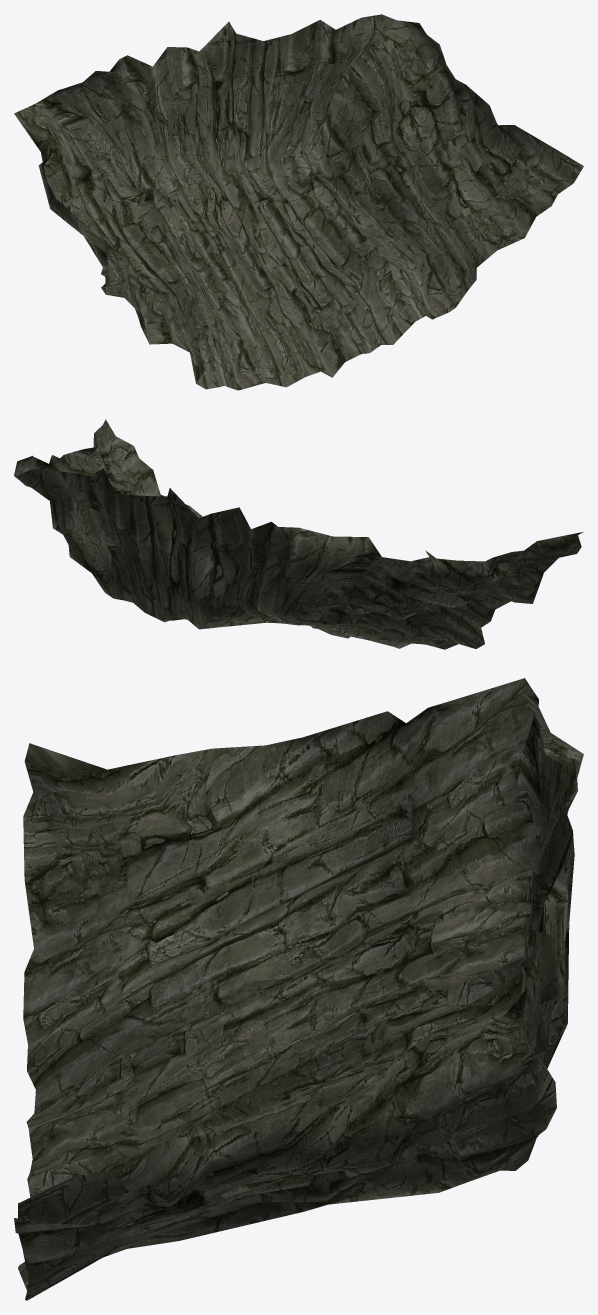
The model's file is TI_Cliff_02_i.fbx.
3 views of the same model, one above another, from view 1: azimuth 30°, elevation 25°; view 2: azimuth 150°, elevation 25°; view 3: azimuth 270°, elevation 25° (orthographic). The views are drawn at different scales.
Parts seen in each view (by area): view 1: TI_Cliff_02_i; view 2: TI_Cliff_02_i; view 3: TI_Cliff_02_i.
Part boxes in pixels (box(x1,y1,x2,y2)): TI_Cliff_02_i: box(14, 14, 583, 390); TI_Cliff_02_i: box(14, 419, 582, 649); TI_Cliff_02_i: box(14, 678, 583, 1300).
Bounding box in the file's own units: 44.65 × 21.72 × 24.06.
